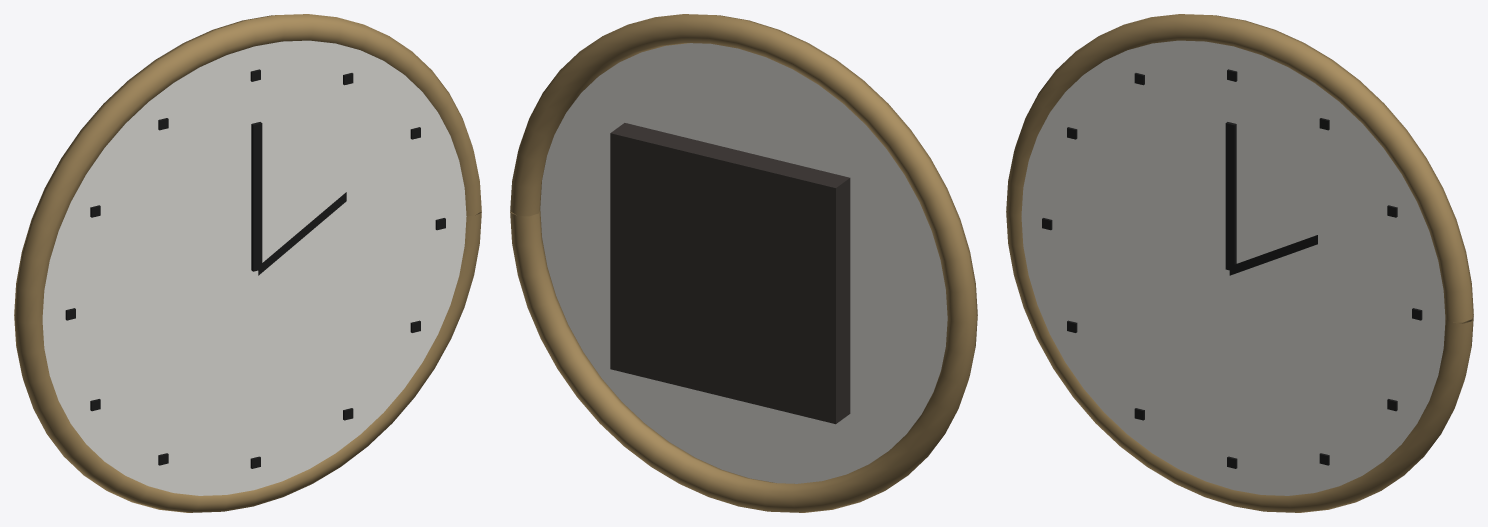
The model's file is CAL-CLK-std.glb.
3 renders of one model, left to right at view 1: azimuth 30°, elevation 25°; view 2: azimuth 150°, elevation 25°; view 3: azimuth 330°, elevation 25°, orthographic.
Parts seen in each view (by area): view 1: CAL-CLK-std; view 2: CAL-CLK-std; view 3: CAL-CLK-std.
Boxes of the visible parts, x1,y1,x2,y2 form: CAL-CLK-std: [14, 14, 481, 512]; CAL-CLK-std: [510, 14, 977, 512]; CAL-CLK-std: [1006, 14, 1473, 512].
Bounding box in the file's own units: 0.412 × 0.412 × 0.048.
